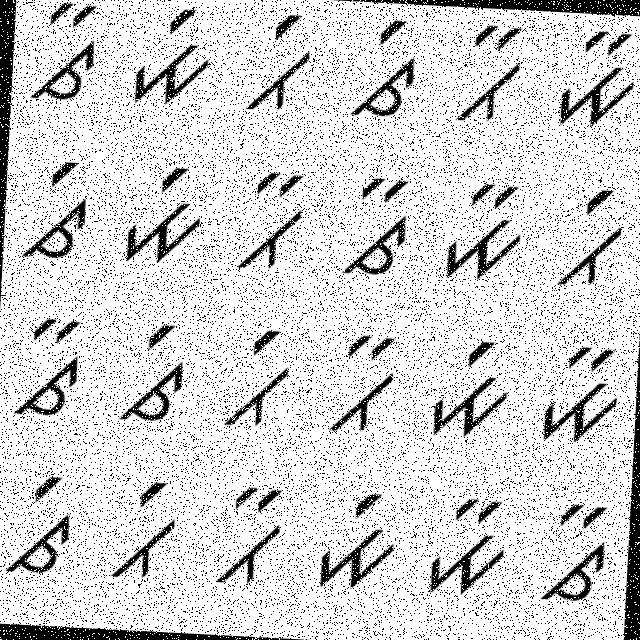ban: (320, 326, 410, 446), (210, 481, 290, 594), (448, 22, 532, 126), (236, 162, 306, 276)
bang: (542, 177, 632, 299), (208, 316, 296, 439), (96, 470, 182, 584), (236, 6, 320, 120)
can: (532, 494, 616, 617), (8, 304, 90, 426), (333, 168, 415, 284), (31, 0, 108, 105)
cang: (114, 312, 196, 427), (0, 466, 80, 583), (20, 151, 93, 264), (350, 14, 423, 124)
man: (420, 480, 515, 600), (432, 178, 530, 294), (530, 336, 626, 454), (552, 24, 639, 130)
mang: (124, 2, 221, 111), (426, 332, 516, 447), (116, 162, 209, 268), (314, 482, 402, 594)
